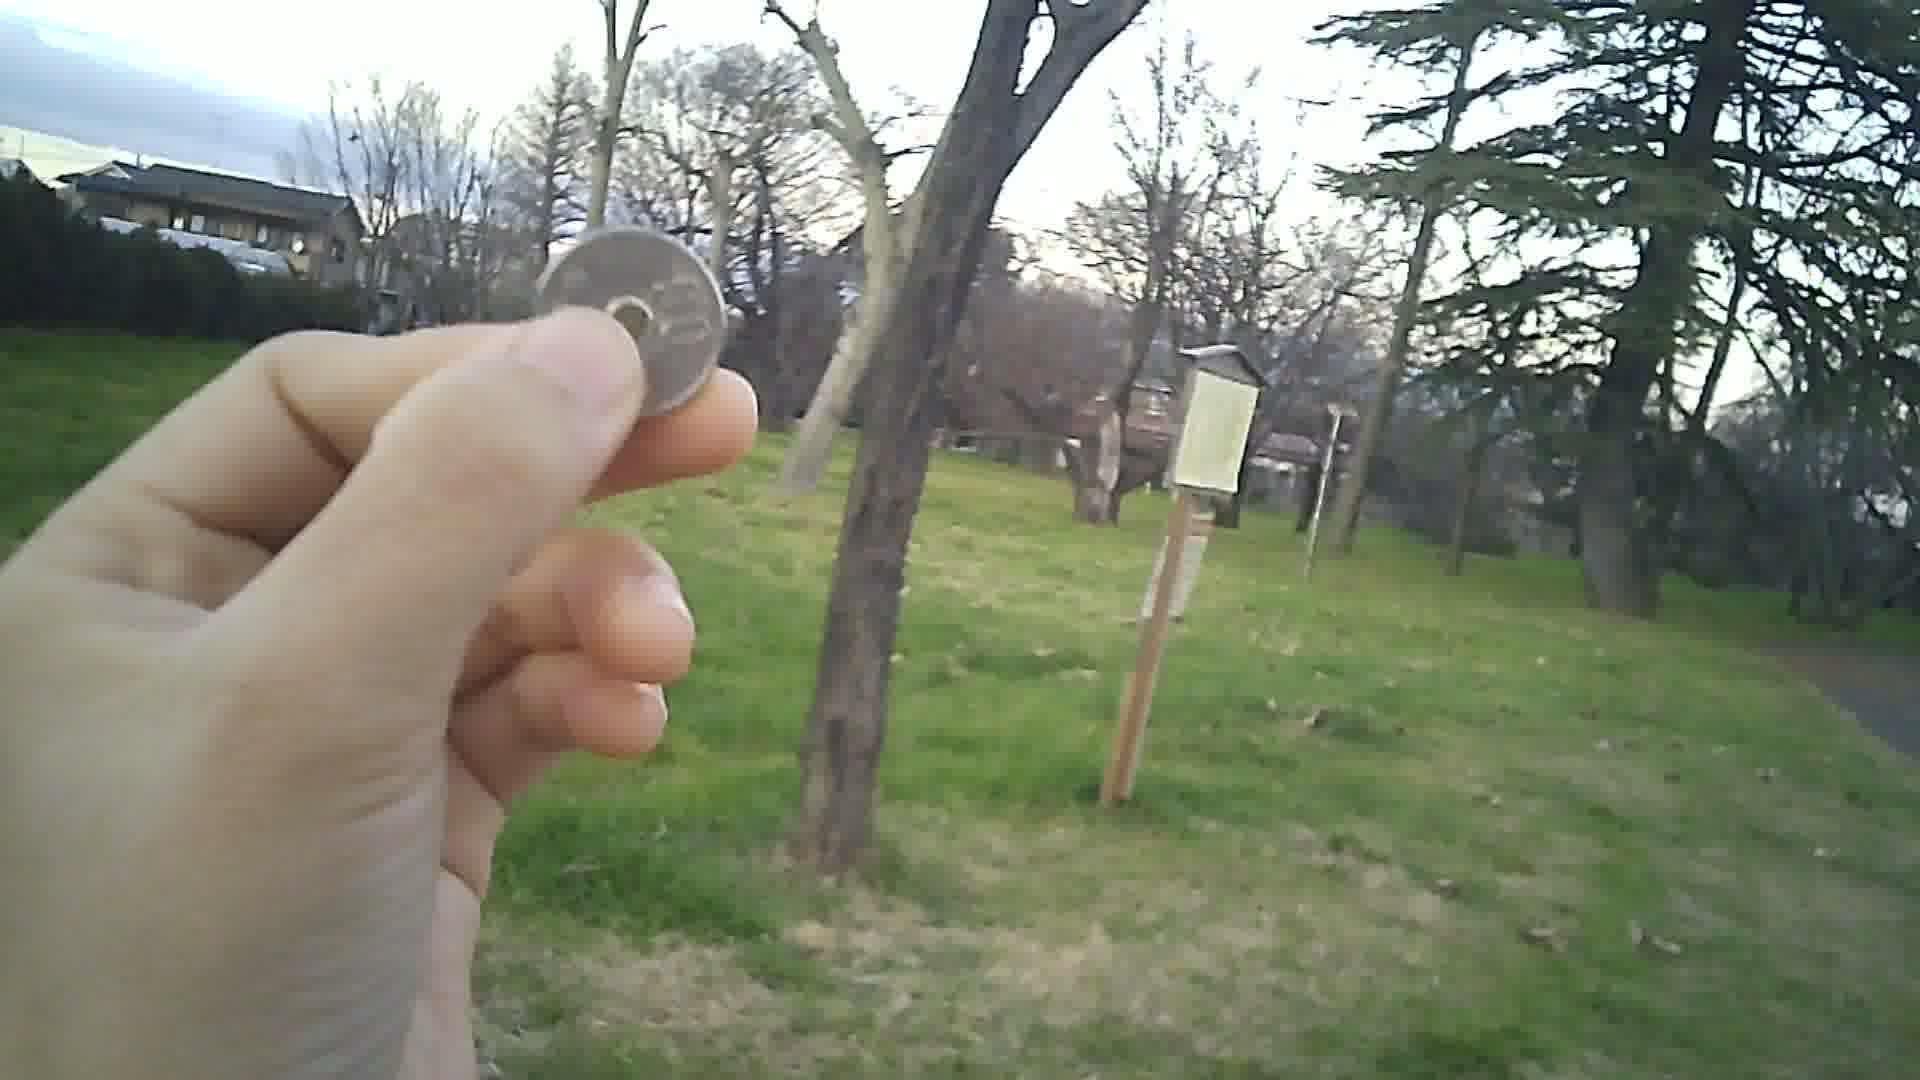50 Yen: (524, 227, 728, 429)
